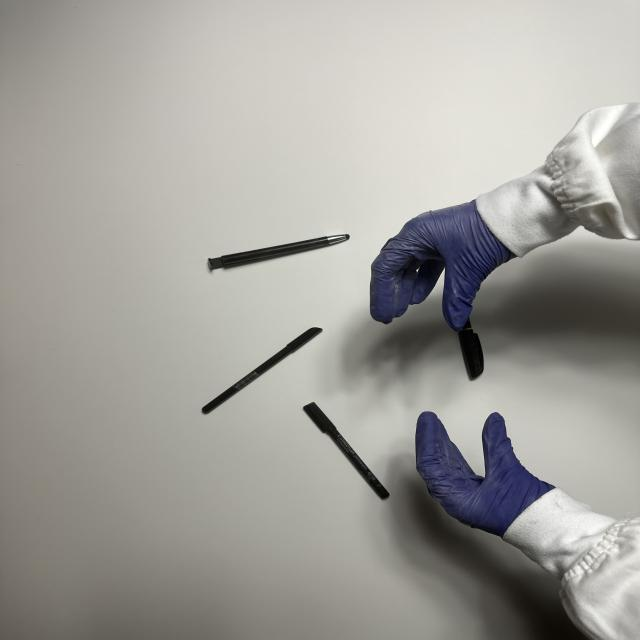gloves_contaminated: (370, 201, 515, 332), (416, 412, 554, 536)
